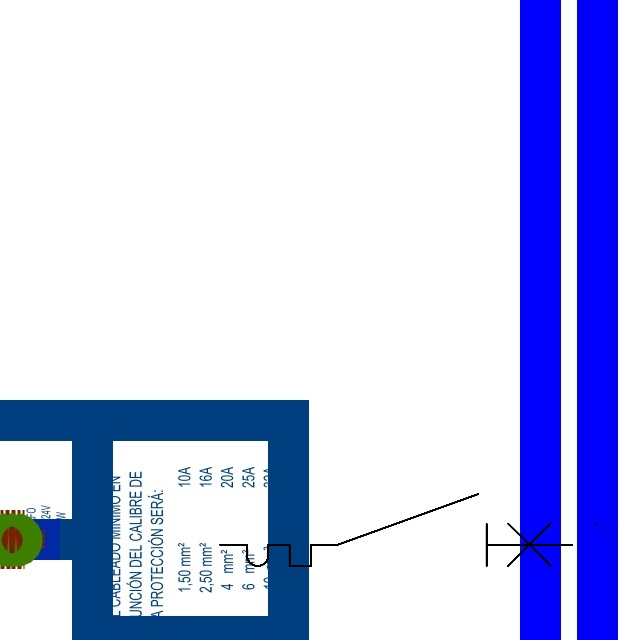interruptor_termomagnetico: (211, 485, 581, 575)
